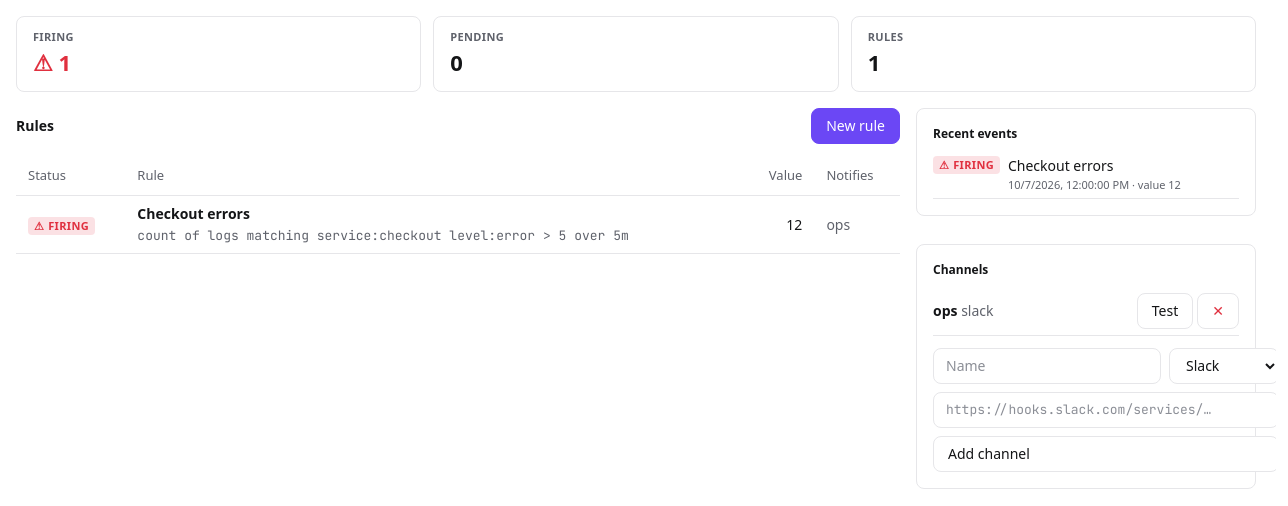
Test: channels can be added and tested
This screenshot has width=1288, height=506.
Type "pager" into the field named "channel-name" at point(1047, 366), box [933,348,1161,384]
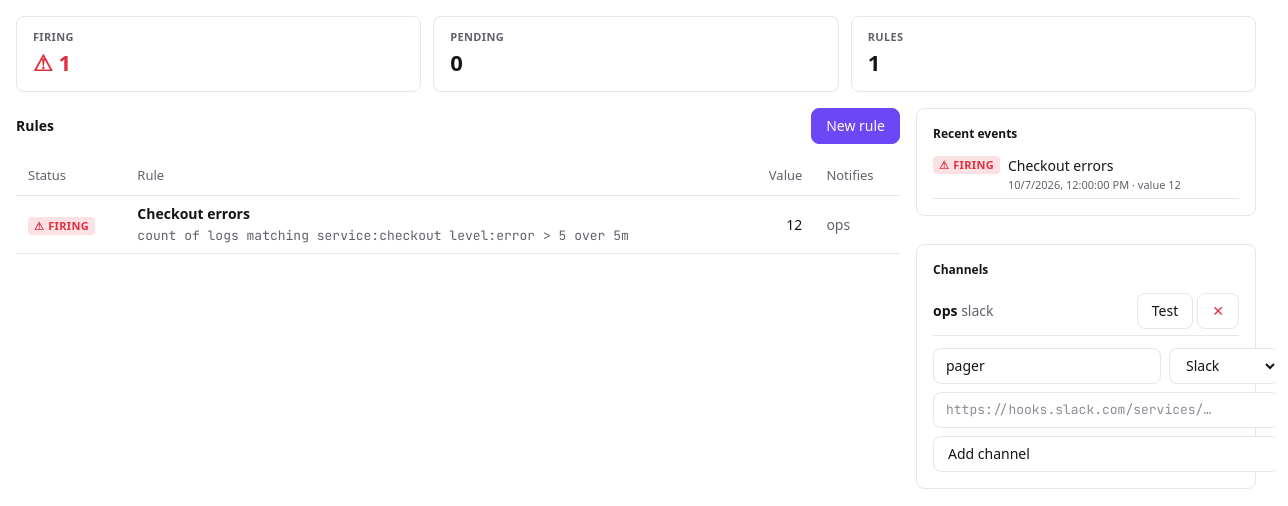
Select "Webhook" in the dropdown named "channel-type" at point(1222, 366), box [1169,348,1276,384]
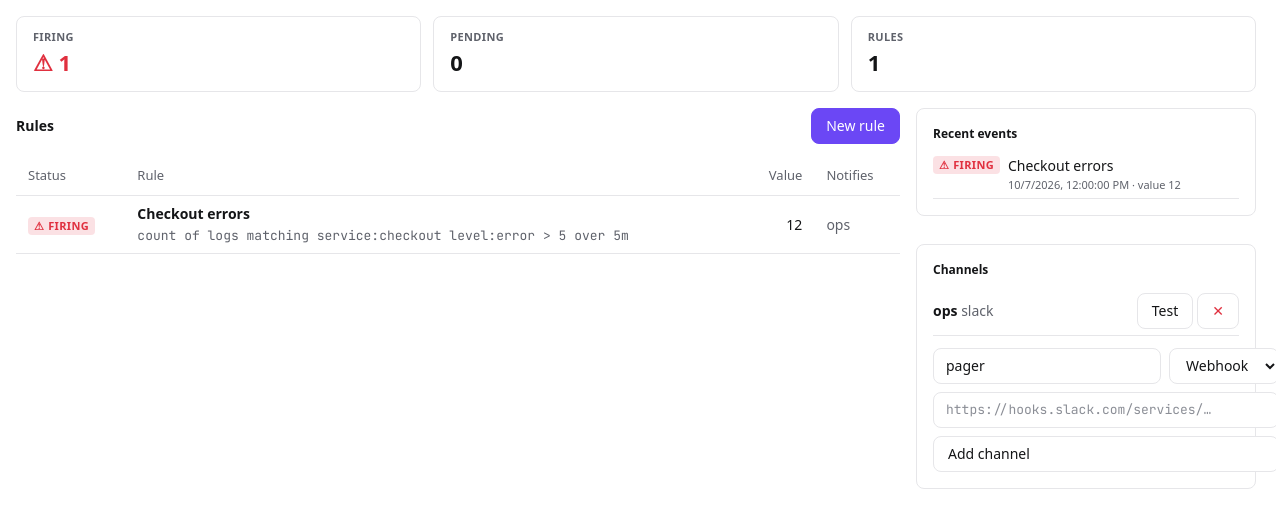
Type "https://x.dev/h" into the field named "channel-url" at point(1104, 410), box [933,392,1276,428]
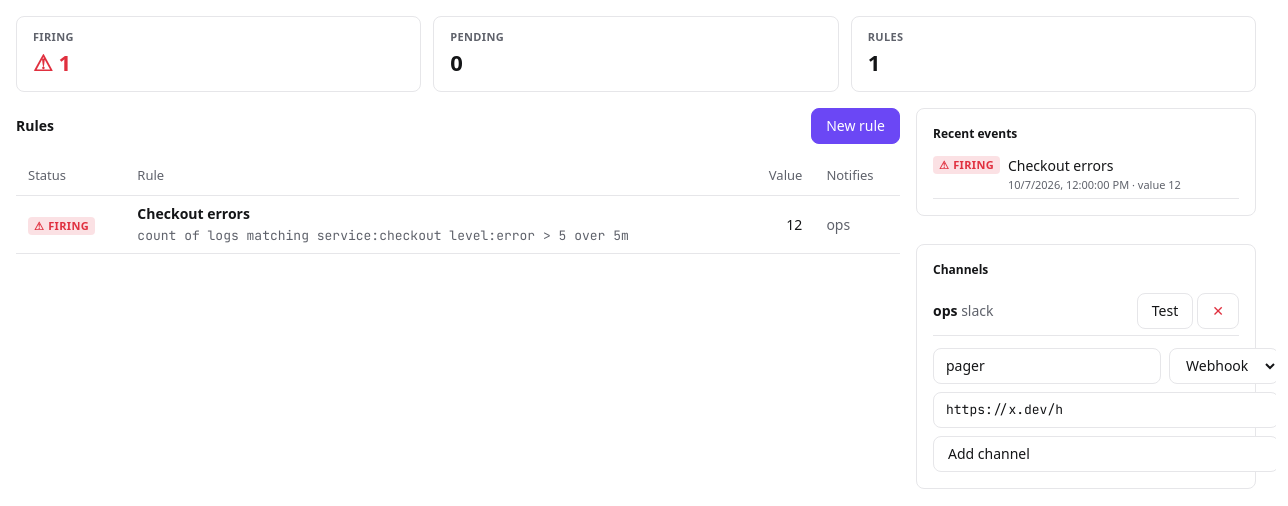
Submit the form, box [933,348,1239,472]
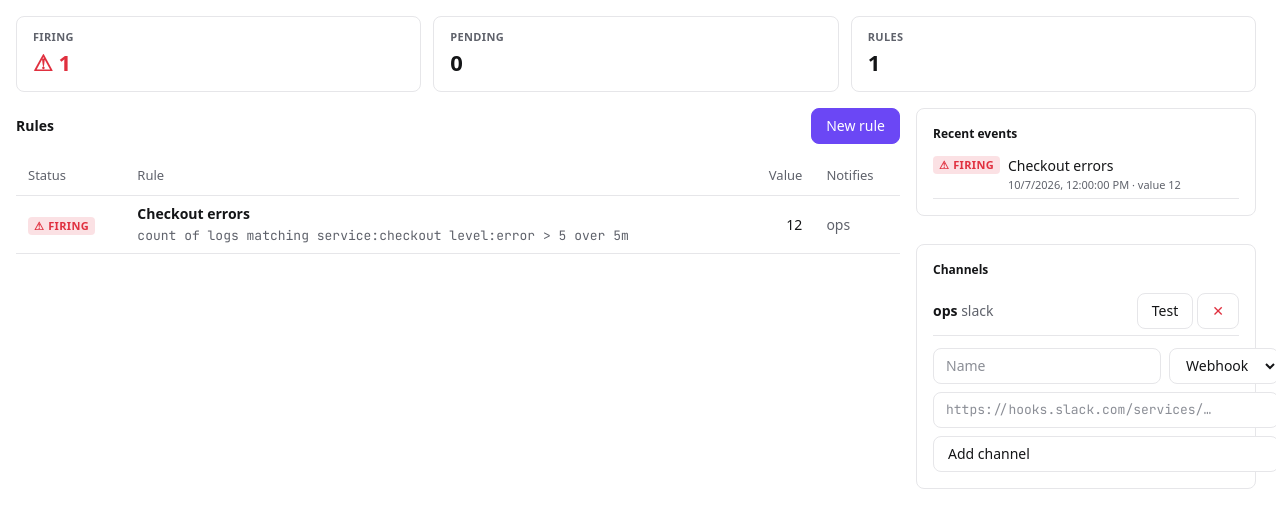
Click the button with class "test" at point(1165, 311), box [1137,293,1193,329]
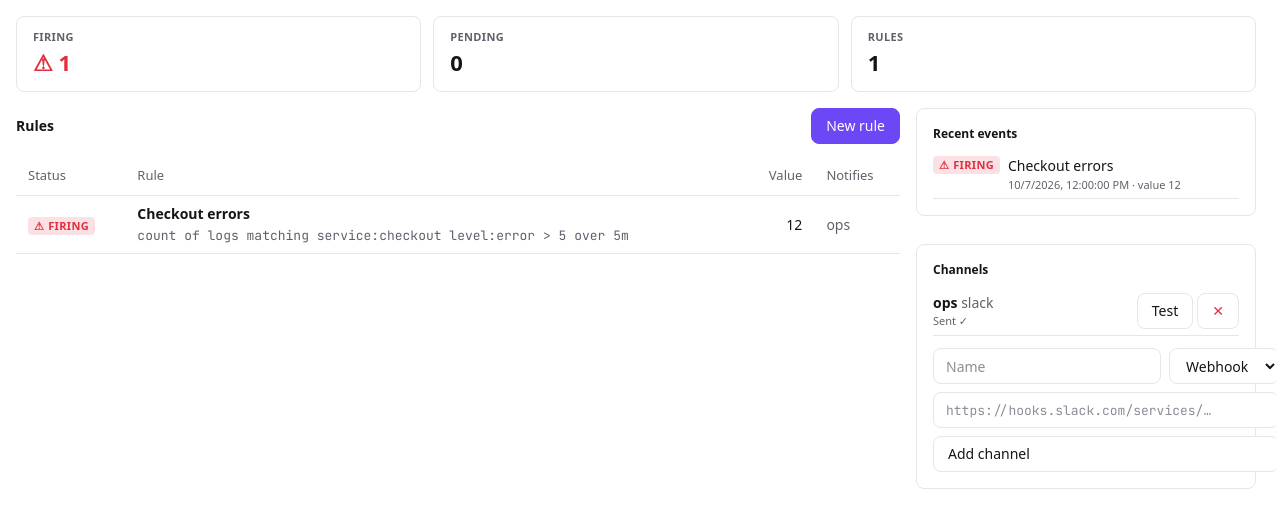
Expected: the element with class "channels" shows "Sent", [933,313,968,328]
